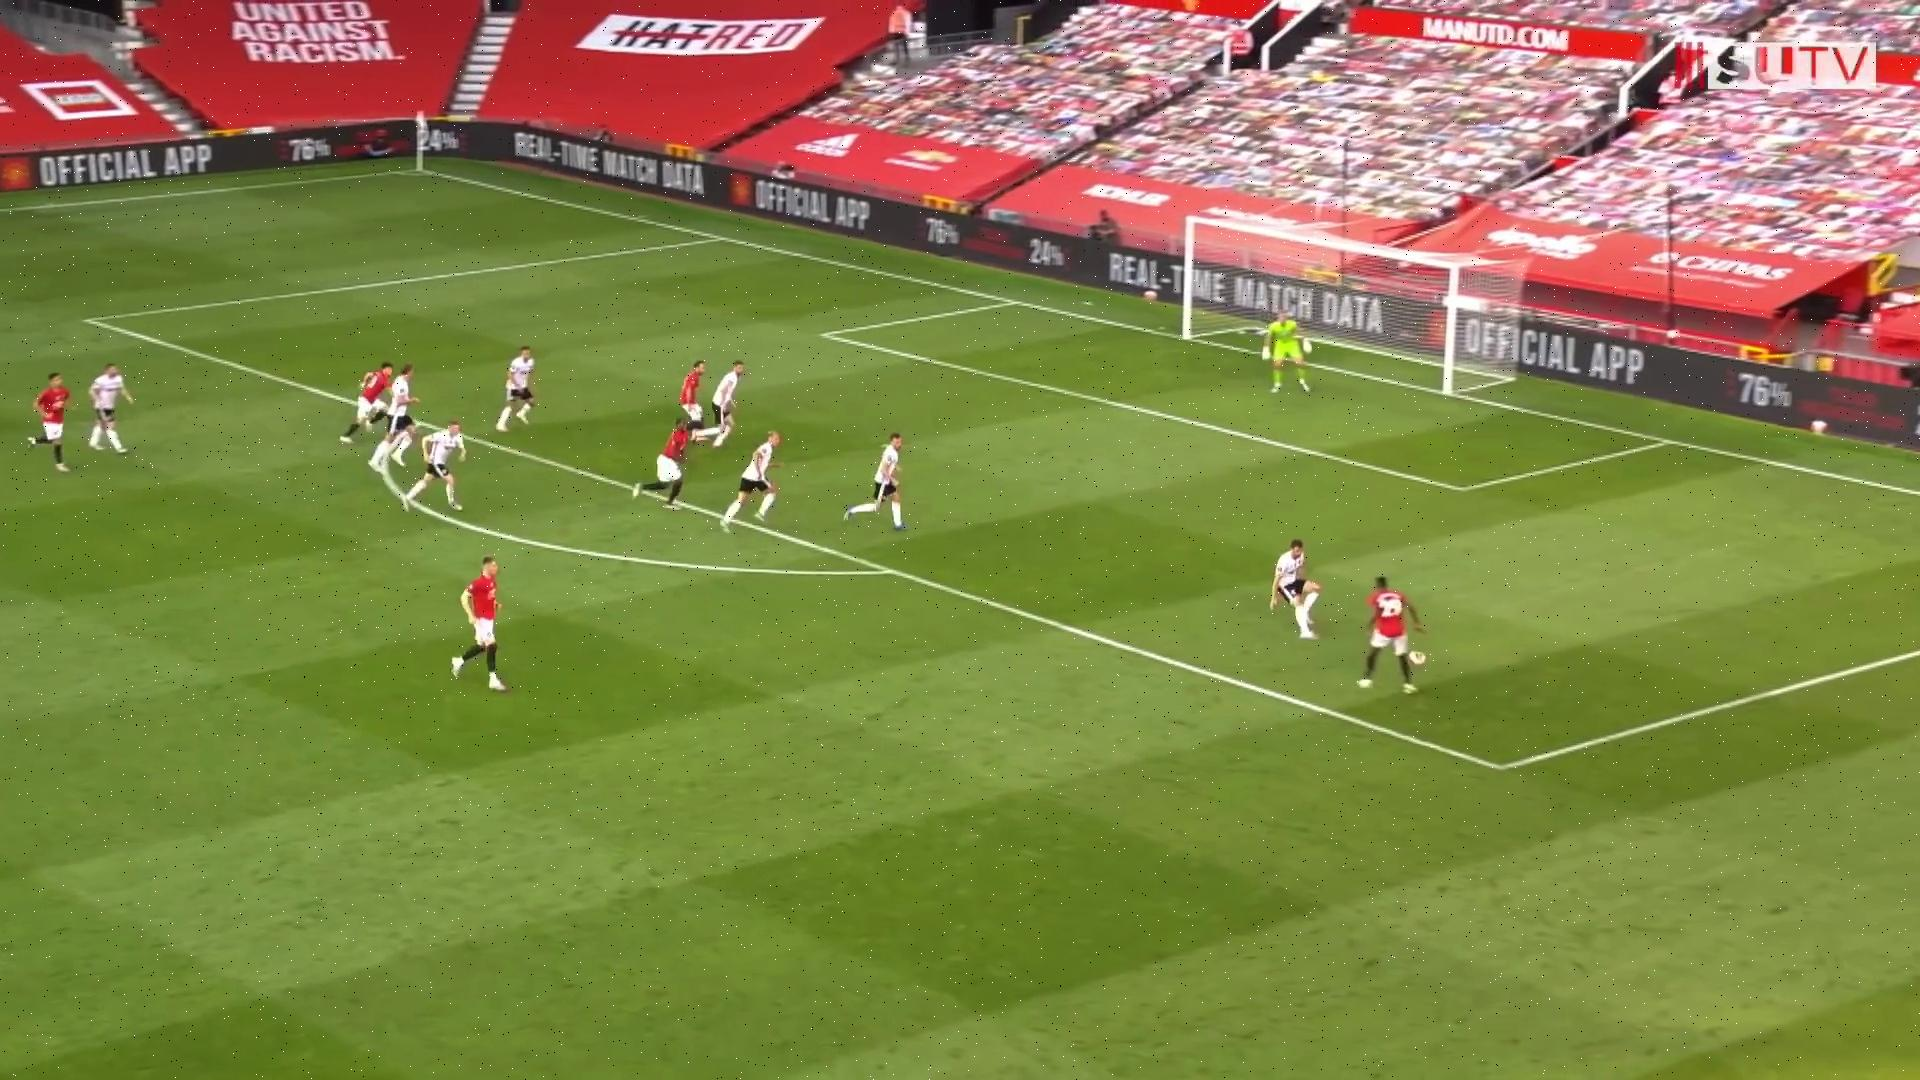ball: (1407, 650, 1428, 669)
